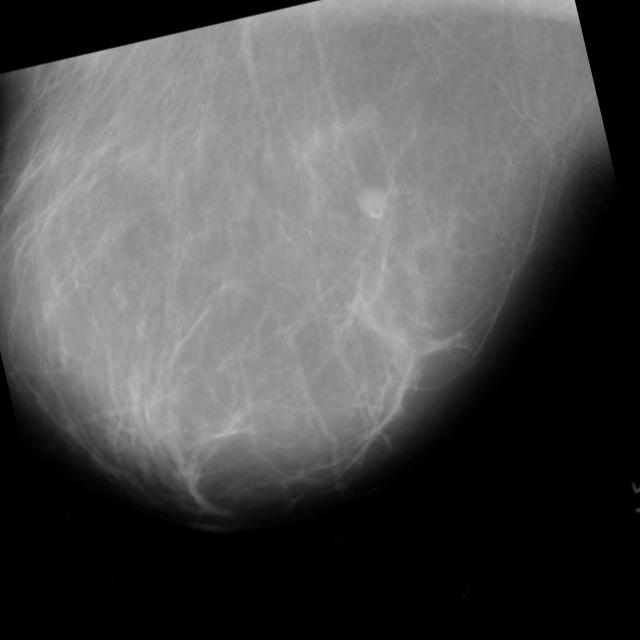CIRC: (353, 182, 392, 222)
